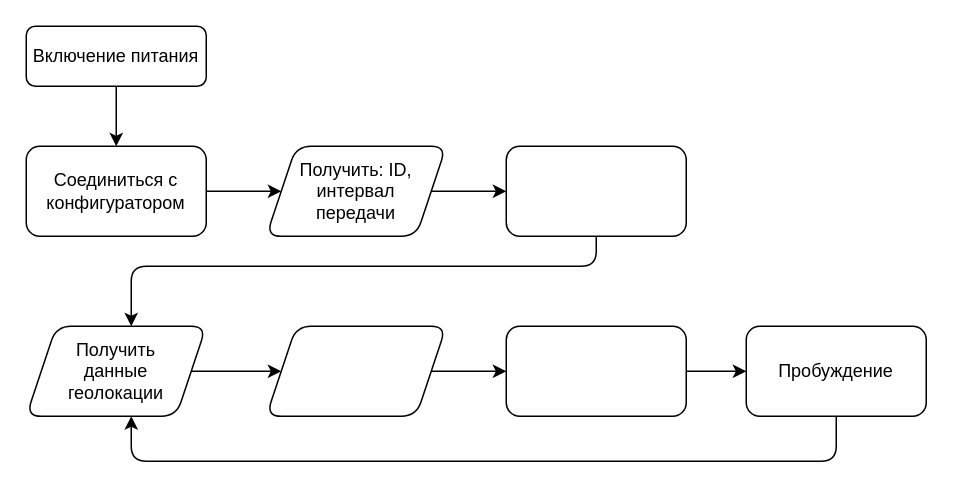
The diagram is 953 pixels wide and 500 high, and some of its shapes have lost their labels. The centre of each missing label's shape, as x and y in pixels:
Отправить геолокацию по LoRa: pixel 355 370
Отсоединиться от сервера: pixel 595 190
Переход в режим сна: pixel 595 370
